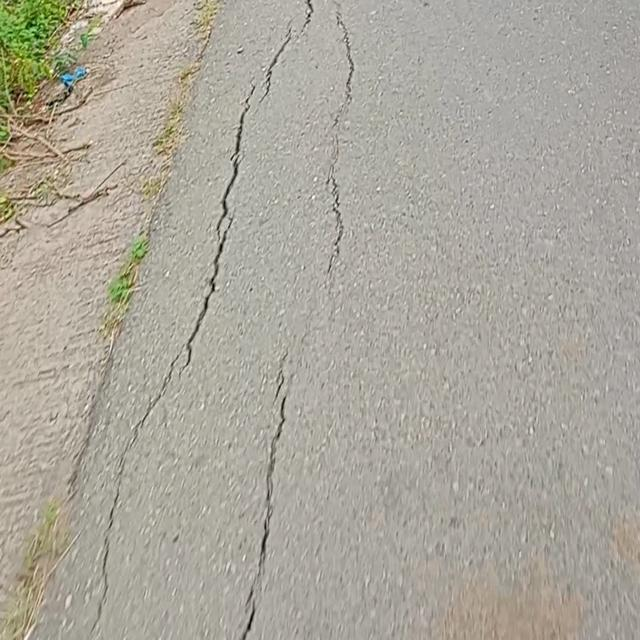Memanjang: (81, 0, 313, 639), (232, 345, 307, 640), (321, 7, 368, 258)
